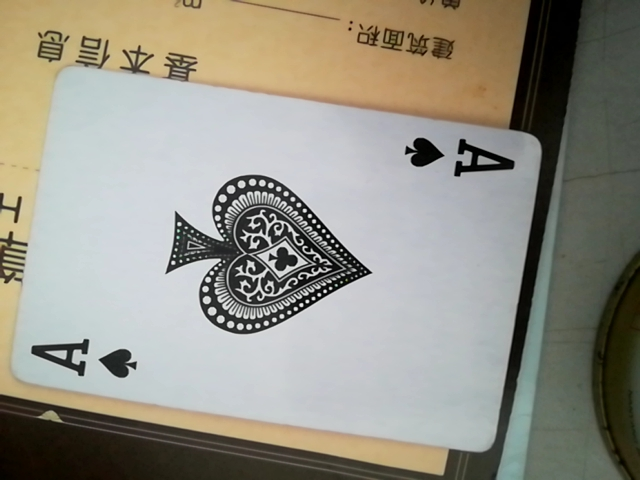ht a: (3, 59, 552, 456)
